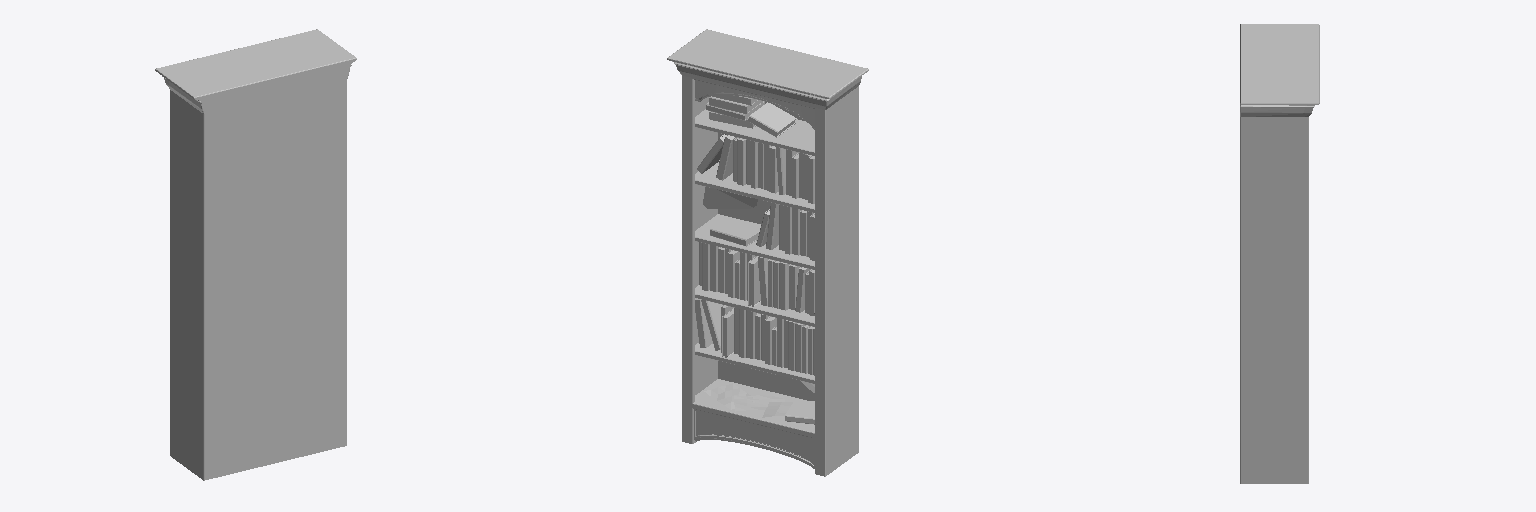
File: Old_Dusty_Bookshelf.obj
3 views of the same model, side by side, from view 1: azimuth 30°, elevation 25°; view 2: azimuth 150°, elevation 25°; view 3: azimuth 270°, elevation 25° (orthographic).
Parts seen in each view (by area): view 1: Old_Dusty_Bookshelf; view 2: Old_Dusty_Bookshelf, Old_Dusty_Bookshelf_Spiderwebs; view 3: Old_Dusty_Bookshelf.
Boxes of the visible parts, <box> form: Old_Dusty_Bookshelf: <box>155,29,356,480</box>; Old_Dusty_Bookshelf: <box>667,29,868,476</box>; Old_Dusty_Bookshelf_Spiderwebs: <box>703,187,814,392</box>; Old_Dusty_Bookshelf: <box>1240,24,1319,483</box>.
Size of the model in its own units: 0.9772 by 2.21 by 0.4106.